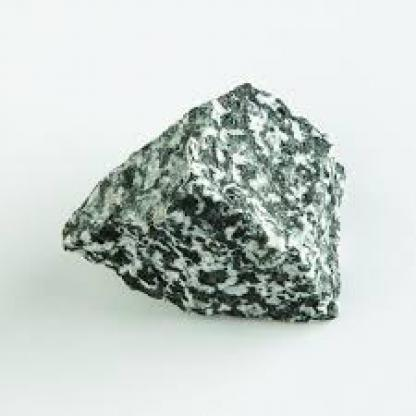Igneous_Diorite: (57, 69, 346, 329)
